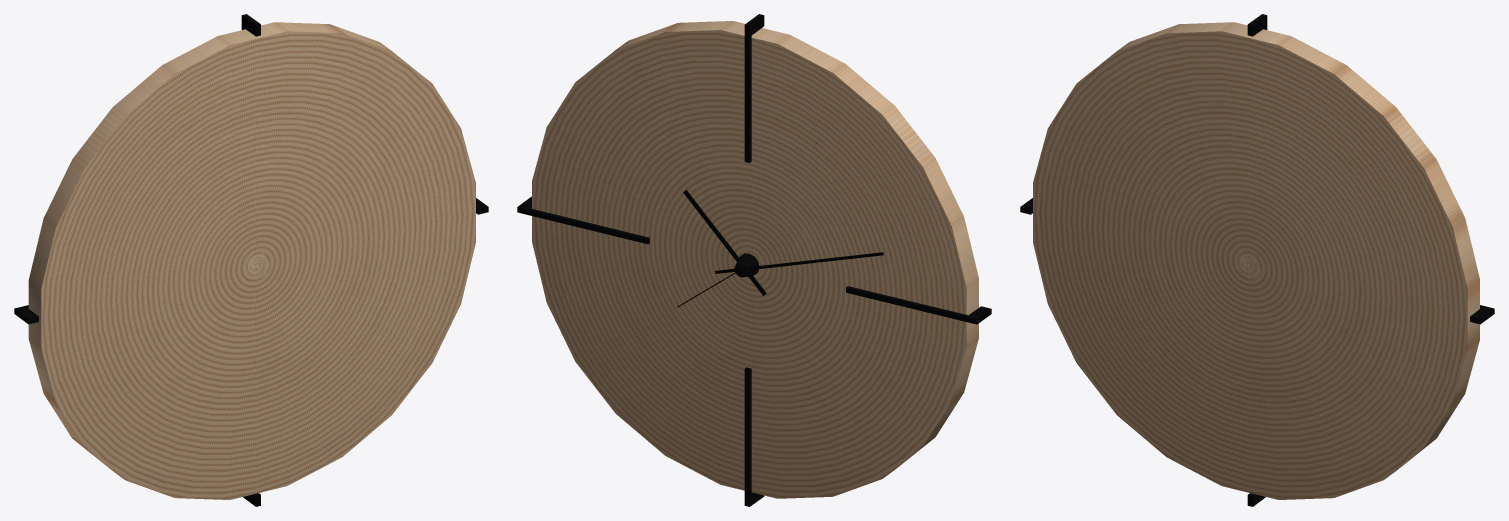
The model's file is biao.fbx.
The picture shows the model from 3 angles, left to right: view 1: azimuth 30°, elevation 25°; view 2: azimuth 150°, elevation 25°; view 3: azimuth 330°, elevation 25°; orthographic projection.
Visible parts, largest first — view 1: biao; view 2: biao; view 3: biao.
Part boxes in pixels (left/top/right/bottom): biao: left=14, top=14, right=488, bottom=506; biao: left=517, top=14, right=991, bottom=506; biao: left=1020, top=14, right=1494, bottom=506.
Size of the model in its own units: 28.19 by 28.18 by 2.33.
